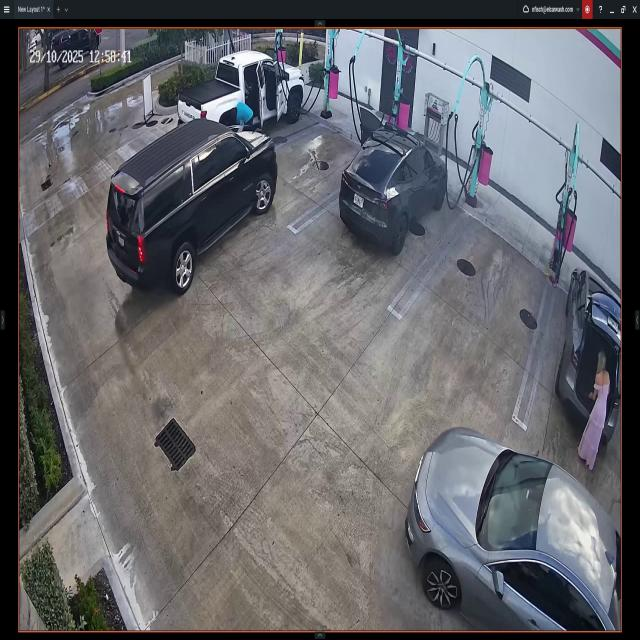Car: (404, 425, 620, 632), (108, 118, 277, 293), (339, 127, 447, 254), (556, 267, 619, 442), (178, 52, 304, 126)
